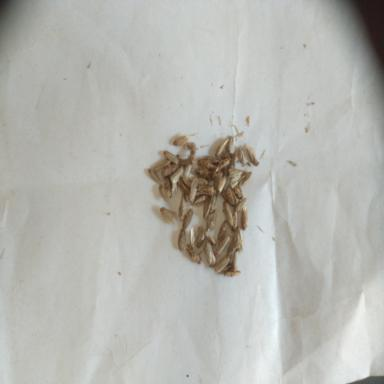pbw: (226, 168, 246, 189), (212, 236, 230, 257), (213, 155, 232, 174), (160, 206, 178, 226), (204, 238, 216, 268), (185, 244, 202, 264), (227, 232, 240, 257), (206, 208, 219, 233), (244, 144, 258, 166), (213, 255, 230, 273), (170, 164, 185, 184), (214, 138, 230, 156), (188, 177, 198, 205), (226, 186, 239, 206), (198, 158, 218, 171), (163, 150, 180, 165), (176, 154, 197, 166), (223, 201, 233, 226), (160, 163, 179, 176), (177, 224, 186, 251), (217, 219, 227, 243), (148, 168, 162, 185), (195, 167, 213, 180), (178, 194, 187, 220), (182, 208, 193, 229), (212, 170, 222, 192), (235, 226, 243, 253), (233, 197, 247, 212), (239, 171, 252, 187), (163, 176, 173, 196), (208, 192, 218, 212), (216, 174, 226, 194), (203, 196, 212, 218), (177, 180, 190, 195), (196, 226, 205, 247), (190, 176, 208, 186), (198, 186, 216, 196), (154, 159, 170, 170), (241, 206, 248, 231), (159, 185, 169, 202), (206, 229, 216, 245), (221, 188, 231, 204), (174, 135, 188, 146), (230, 151, 239, 167), (236, 146, 245, 162), (233, 185, 243, 199), (232, 249, 238, 272), (232, 209, 238, 231), (190, 226, 196, 248), (225, 136, 233, 152), (192, 196, 208, 204), (183, 164, 192, 178), (224, 269, 242, 276), (190, 142, 196, 161), (206, 156, 220, 164), (220, 152, 234, 160), (221, 263, 233, 272), (183, 176, 191, 188)
